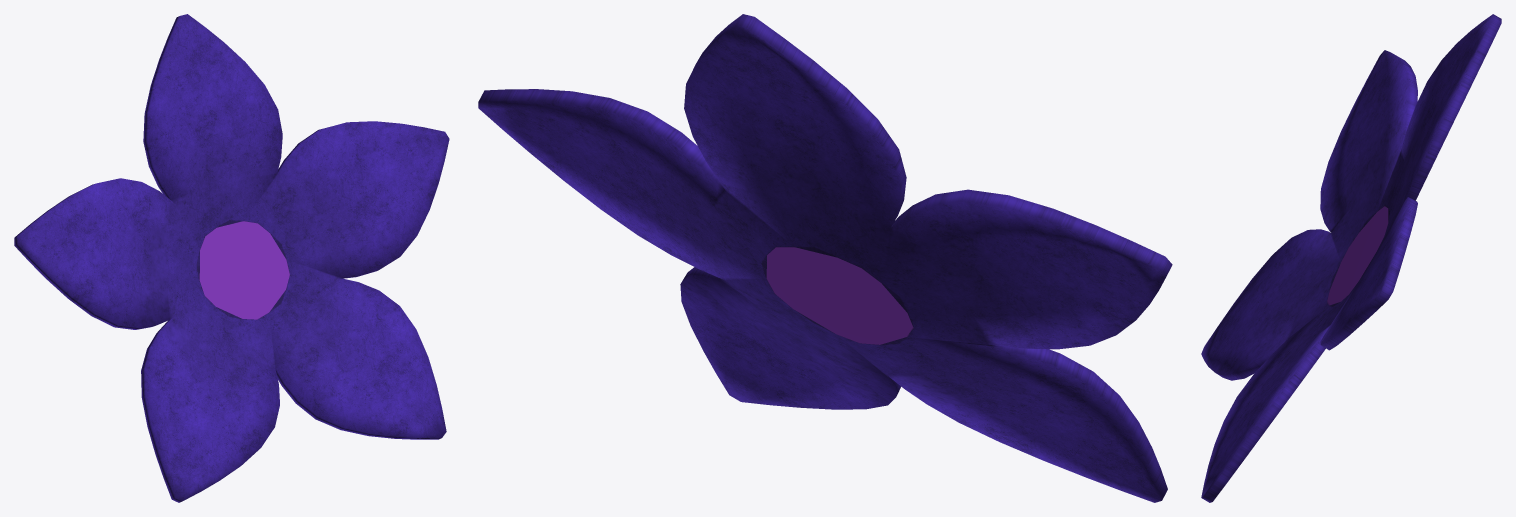
File: Flower.fbx
3 renders of one model, left to right at view 1: azimuth 30°, elevation 25°; view 2: azimuth 150°, elevation 25°; view 3: azimuth 270°, elevation 25°, orthographic. The views are drawn at different scales.
Parts seen in each view (by area): view 1: Circle.004; view 2: Circle.004; view 3: Circle.004.
Part boxes in pixels (<box>): Circle.004: <box>14,14,449,502</box>; Circle.004: <box>478,14,1172,502</box>; Circle.004: <box>1201,14,1501,502</box>.
Bounding box in the file's own units: 33.28 × 26.92 × 17.67.
1 material, 1 textured.
